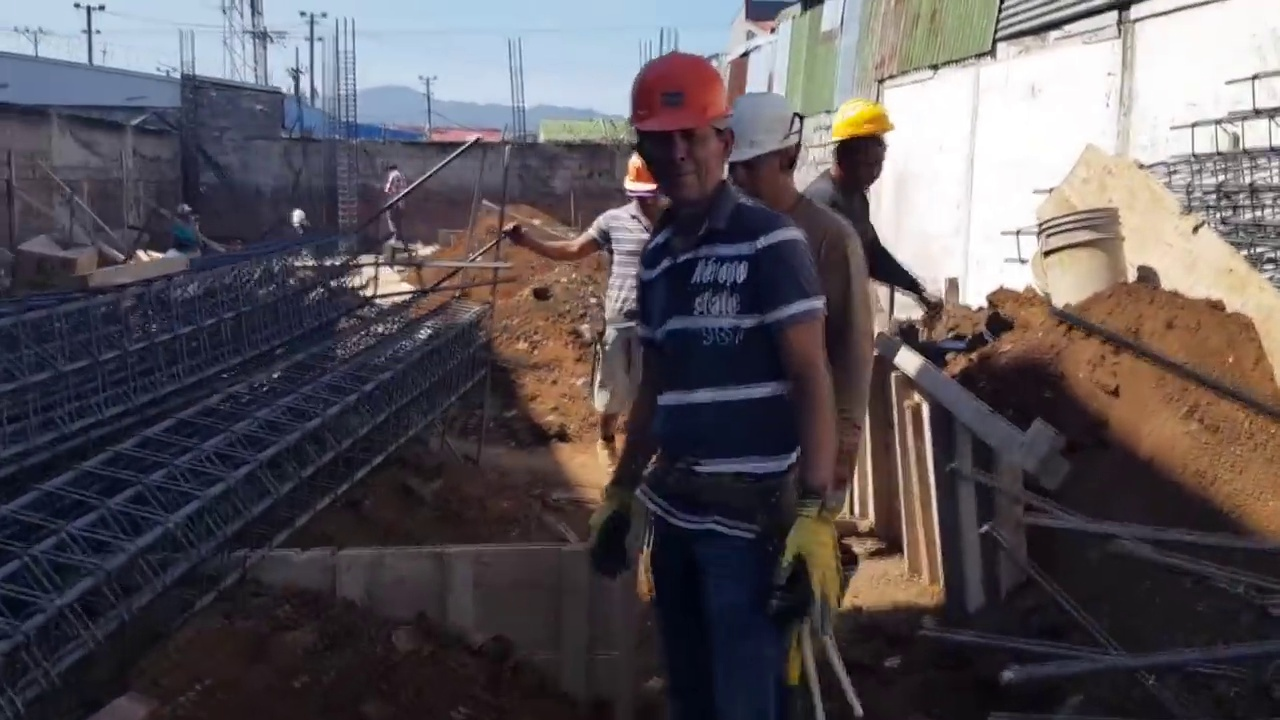helmet: (628, 51, 741, 134), (726, 84, 801, 162), (826, 92, 896, 142), (622, 154, 657, 193), (177, 204, 192, 214)
helmet-off: (385, 161, 400, 176)
helmet-on: (627, 49, 741, 218), (726, 86, 798, 205), (826, 94, 896, 196), (622, 154, 668, 219), (176, 204, 192, 221)
person: (615, 49, 827, 720), (727, 83, 875, 499), (504, 152, 669, 485), (798, 90, 948, 316), (383, 161, 410, 250), (170, 202, 198, 261)
